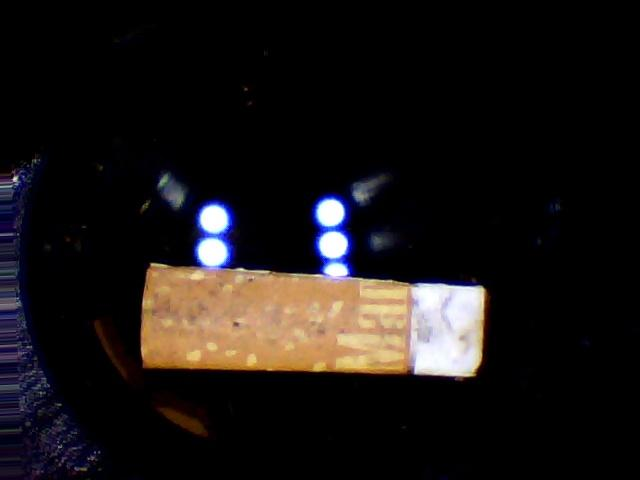megot: (126, 229, 501, 408)
